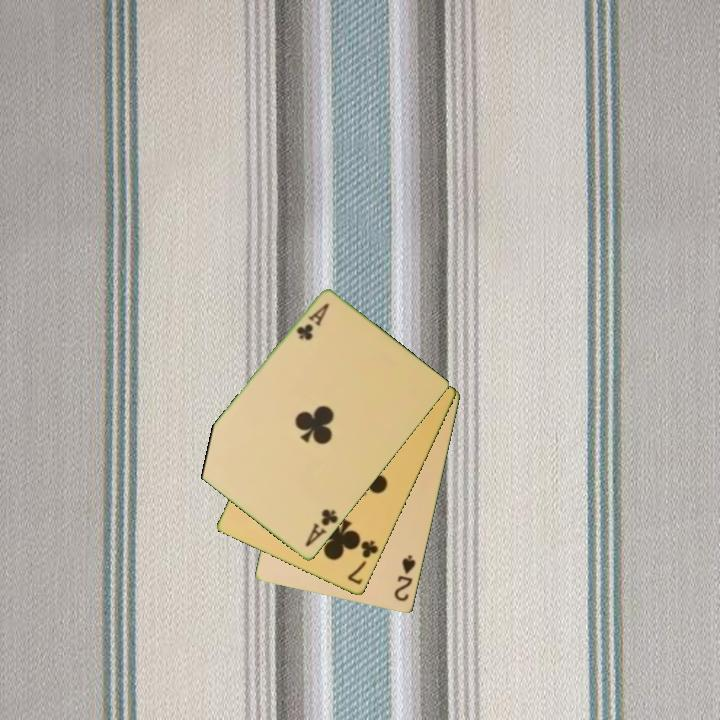2s: (391, 552, 419, 605)
7c: (344, 537, 381, 588)
Ac: (302, 505, 341, 550), (293, 300, 332, 344)
